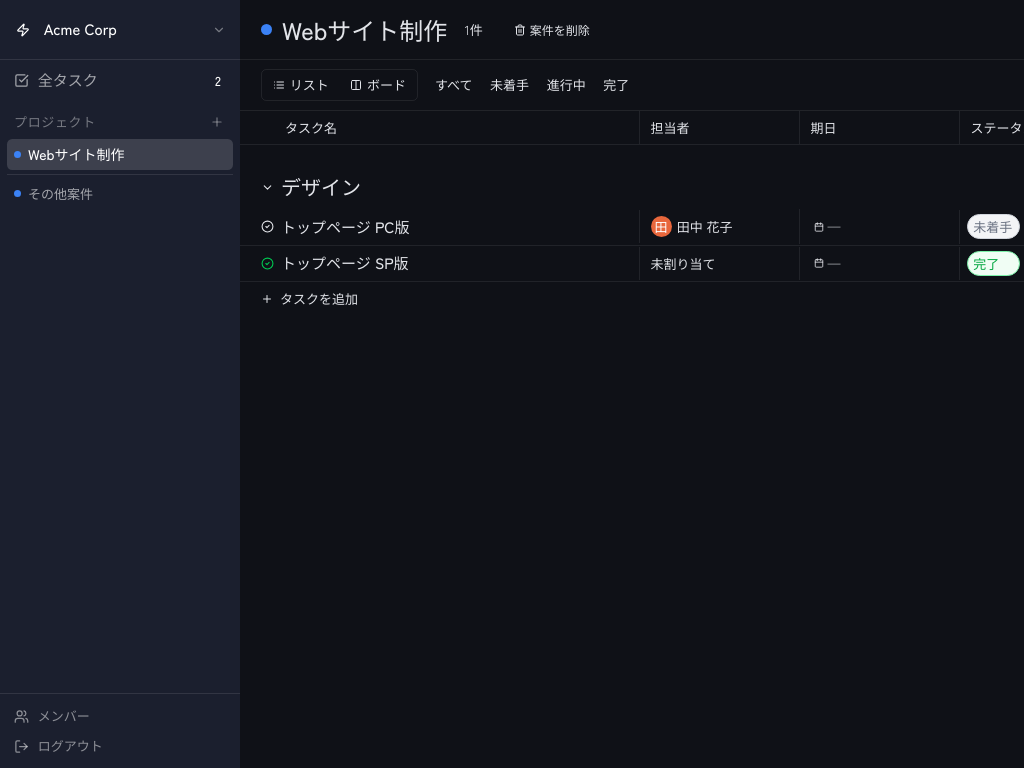
Test: App の主要操作 › 案件の「案件を削除」→ M6 でタスク数が出て、削除すると先頭の案件に戻る
The image size is (1024, 768).
Expected: the heading "Webサイト制作" is shown, [282,12,447,48]
Step 1. Click the button "案件を削除" → (552, 30), box [507,17,597,42]
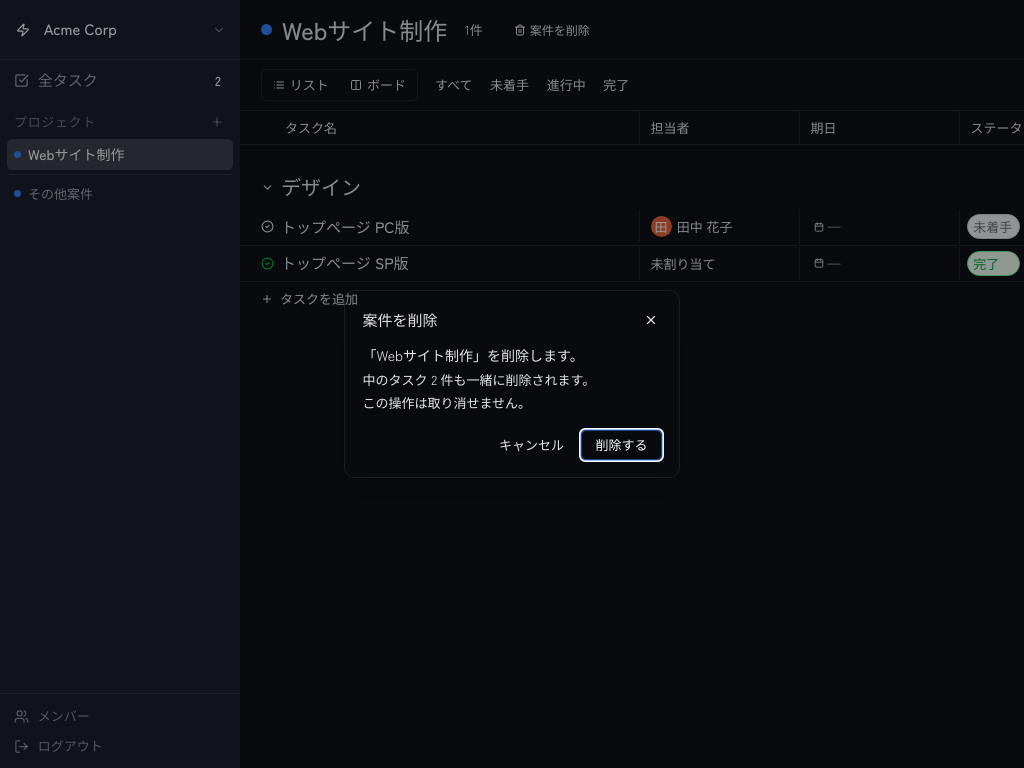
Now the text "中のタスク 2 件も一緒に削除されます。" is shown, box [362,370,595,388]
Step 2. Click the button "削除する" → (622, 444), box [582,430,662,460]
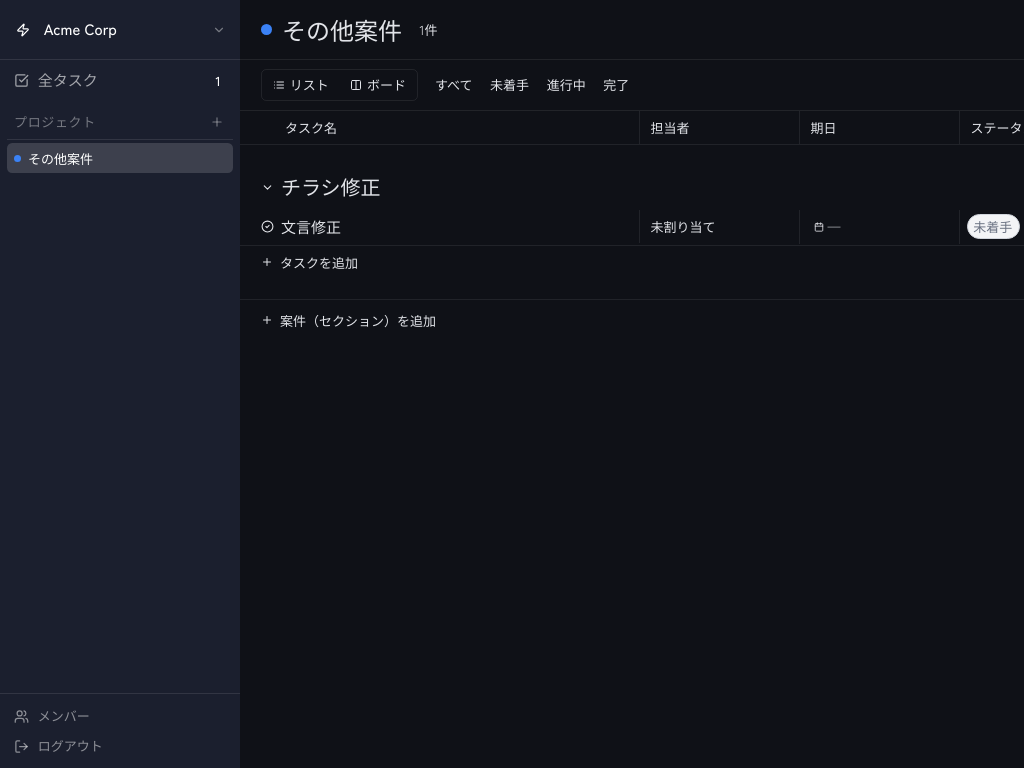
Now the heading "その他案件" is shown, box [282,12,402,48]
